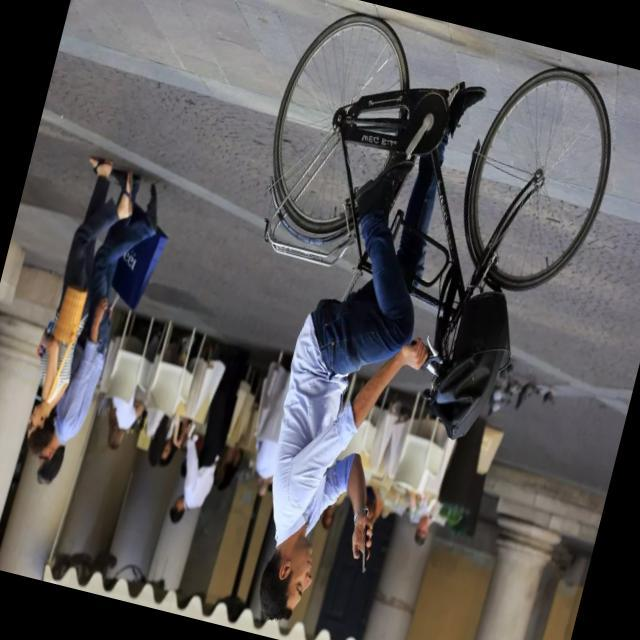USING_MOBILE: (253, 442, 394, 640)
